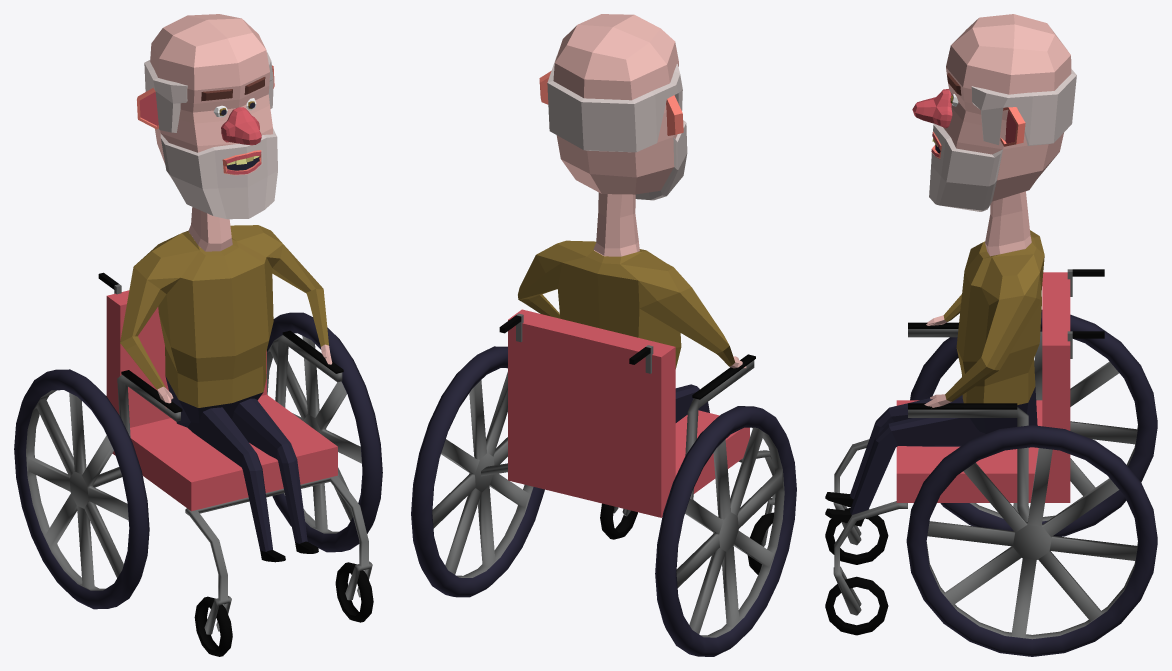
The model's file is character.glb.
3 views of the same model, side by side, from view 1: azimuth 30°, elevation 25°; view 2: azimuth 150°, elevation 25°; view 3: azimuth 270°, elevation 25° (orthographic). The views are drawn at different scales.
Parts seen in each view (by area): view 1: Torso, Seat, Wheel_Right, Head, Wheel_Left, Beard, Hair, Neck, Nose, Mouth1, Ears; view 2: Seat, Wheel_Right, Wheel_Left, Torso, Head, Hair, Neck, Beard, Ears; view 3: Wheel_Left, Torso, Seat, Head, Wheel_Right, Hair, Beard, Neck, Nose, Ears.
Boxes of the visible parts, box(x1,y1,x2,y2) form: Torso: box(120, 225, 332, 562); Seat: box(93, 272, 373, 656); Wheel_Right: box(14, 369, 149, 609); Head: box(150, 14, 272, 175); Wheel_Left: box(267, 312, 382, 552); Beard: box(160, 128, 277, 219); Hair: box(144, 52, 273, 132); Neck: box(188, 207, 232, 251); Nose: box(221, 107, 261, 145); Mouth1: box(222, 150, 261, 174); Ears: box(137, 65, 274, 129); Seat: box(481, 309, 775, 574); Wheel_Right: box(655, 406, 796, 656); Wheel_Left: box(411, 346, 544, 597); Torso: box(518, 240, 746, 422); Head: box(553, 14, 678, 194); Hair: box(547, 56, 682, 152); Neck: box(593, 192, 639, 256); Beard: box(635, 120, 687, 200); Ears: box(539, 71, 683, 135); Wheel_Left: box(906, 425, 1157, 656); Torso: box(825, 230, 1044, 526); Seat: box(825, 269, 1104, 635); Head: box(935, 14, 1071, 201); Wheel_Right: box(910, 310, 1157, 536); Hair: box(971, 69, 1076, 145); Beard: box(929, 124, 1002, 211); Neck: box(985, 191, 1031, 256); Nose: box(912, 89, 952, 128); Ears: box(1000, 107, 1025, 146).
Bounding box in the file's own units: 0.614 × 1.3 × 0.6838.
1 material, 1 textured.
